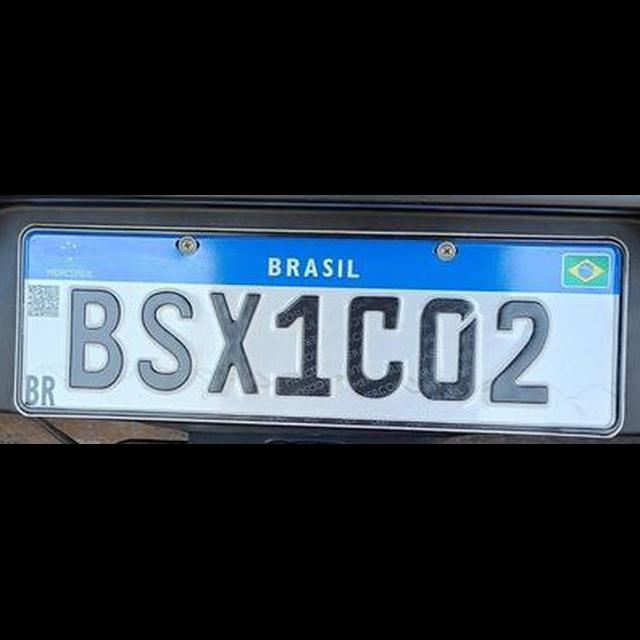Caractere: (270, 291, 332, 399), (346, 292, 406, 400), (416, 294, 476, 402), (491, 296, 552, 402), (205, 288, 263, 399), (137, 286, 195, 394), (68, 284, 124, 392)
Placa: (16, 220, 630, 438)
